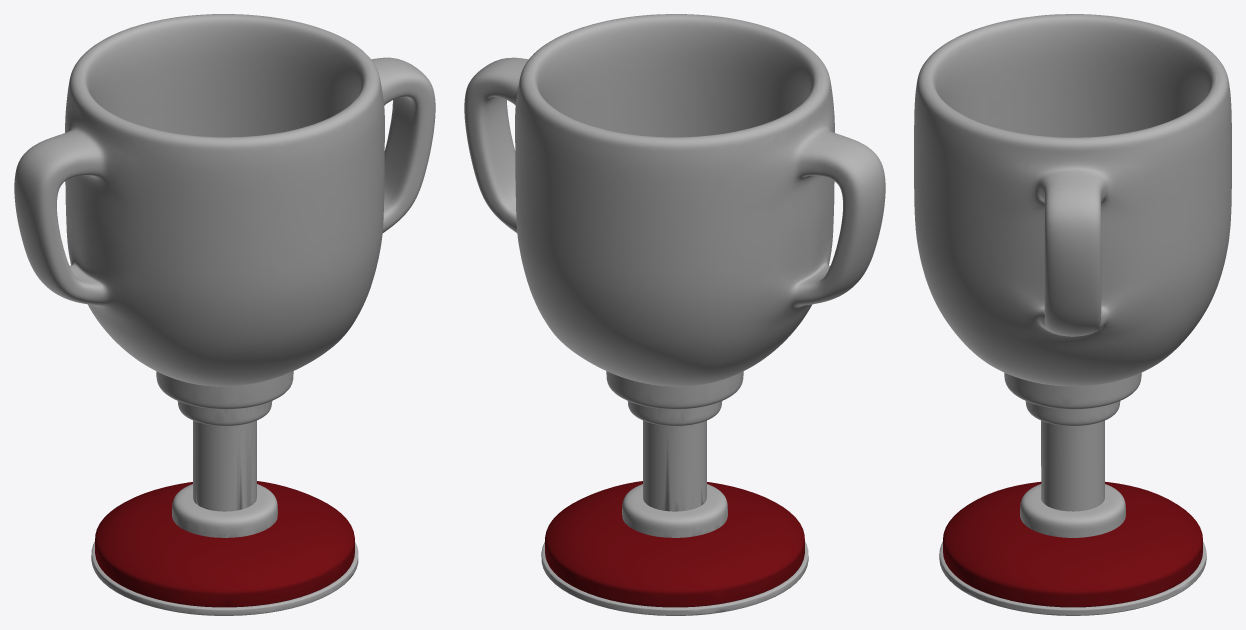
The model's file is trophy.glb.
3 renders of one model, left to right at view 1: azimuth 30°, elevation 25°; view 2: azimuth 150°, elevation 25°; view 3: azimuth 270°, elevation 25°, orthographic.
Visible parts, largest first — view 1: Cube.016; view 2: Cube.016; view 3: Cube.016.
Boxes of the visible parts, x1,y1,x2,y2 form: Cube.016: (14,14,435,615); Cube.016: (464,14,885,615); Cube.016: (914,14,1231,615).
Bounding box in the file's own units: 1.68 × 1.92 × 1.14.
